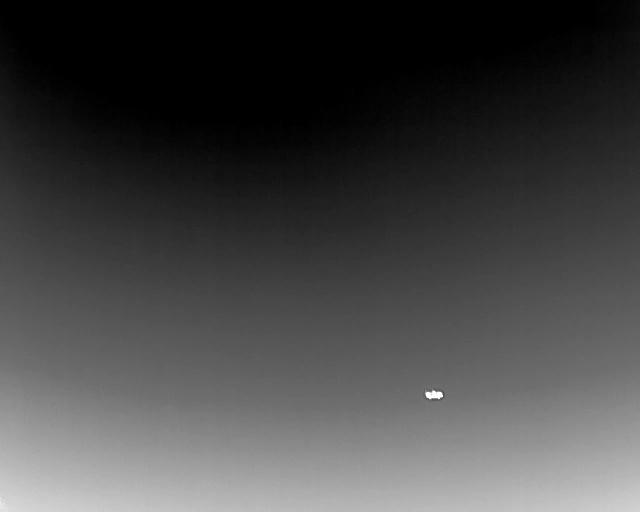fpv-drone: (424, 388, 444, 401)
